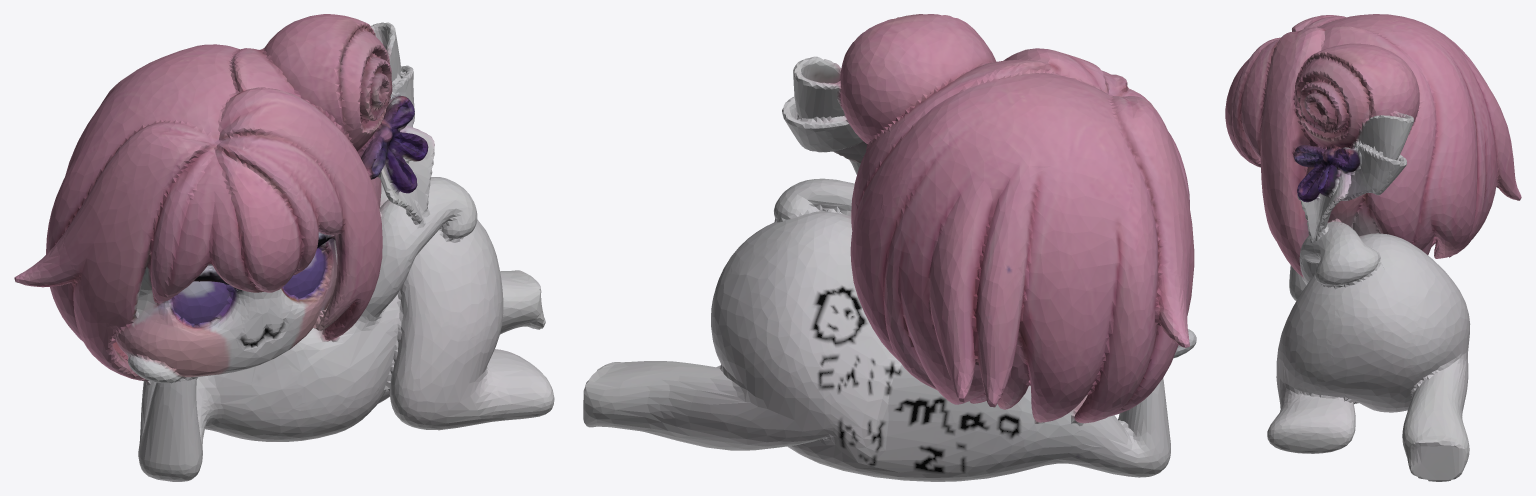
3 renders of one model, left to right at view 1: azimuth 30°, elevation 25°; view 2: azimuth 150°, elevation 25°; view 3: azimuth 270°, elevation 25°, orthographic. The views are drawn at different scales.
Visible parts, largest first — view 1: Mesh; view 2: Mesh; view 3: Mesh.
Boxes of the visible parts, box(x1,y1,x2,y2) form: Mesh: box(14, 14, 554, 481); Mesh: box(583, 14, 1196, 481); Mesh: box(1225, 14, 1521, 481).
Size of the model in its own units: 10.32 by 7.4 by 5.96.
1 material, 1 textured.
